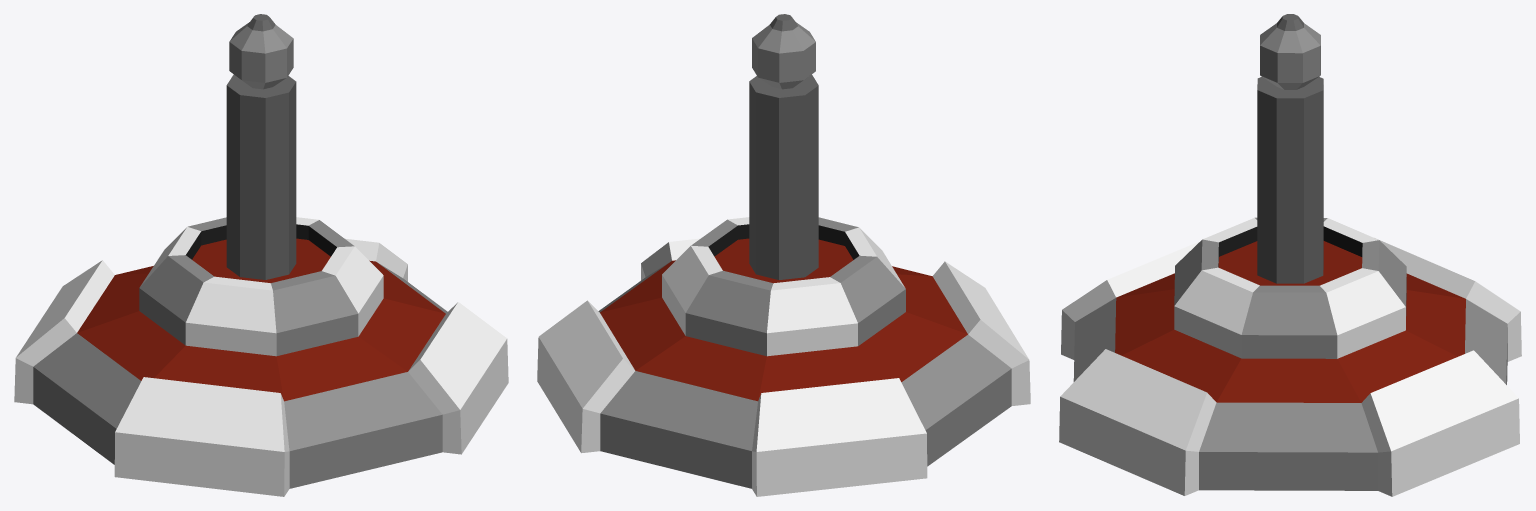
Rendered from Turret.fbx.
The picture shows the model from 3 angles, left to right: view 1: azimuth 30°, elevation 25°; view 2: azimuth 150°, elevation 25°; view 3: azimuth 270°, elevation 25°; orthographic projection.
Parts seen in each view (by area): view 1: Turret-base, Turret-axe; view 2: Turret-base, Turret-axe; view 3: Turret-base, Turret-axe.
Part boxes in pixels (x1,y1,x2,y2): Turret-base: (14,217,508,496); Turret-axe: (226,14,296,279); Turret-base: (537,217,1030,496); Turret-axe: (749,14,818,279); Turret-base: (1059,217,1521,496); Turret-axe: (1257,14,1323,283).
Size of the model in its own units: 198 by 180 by 198.
